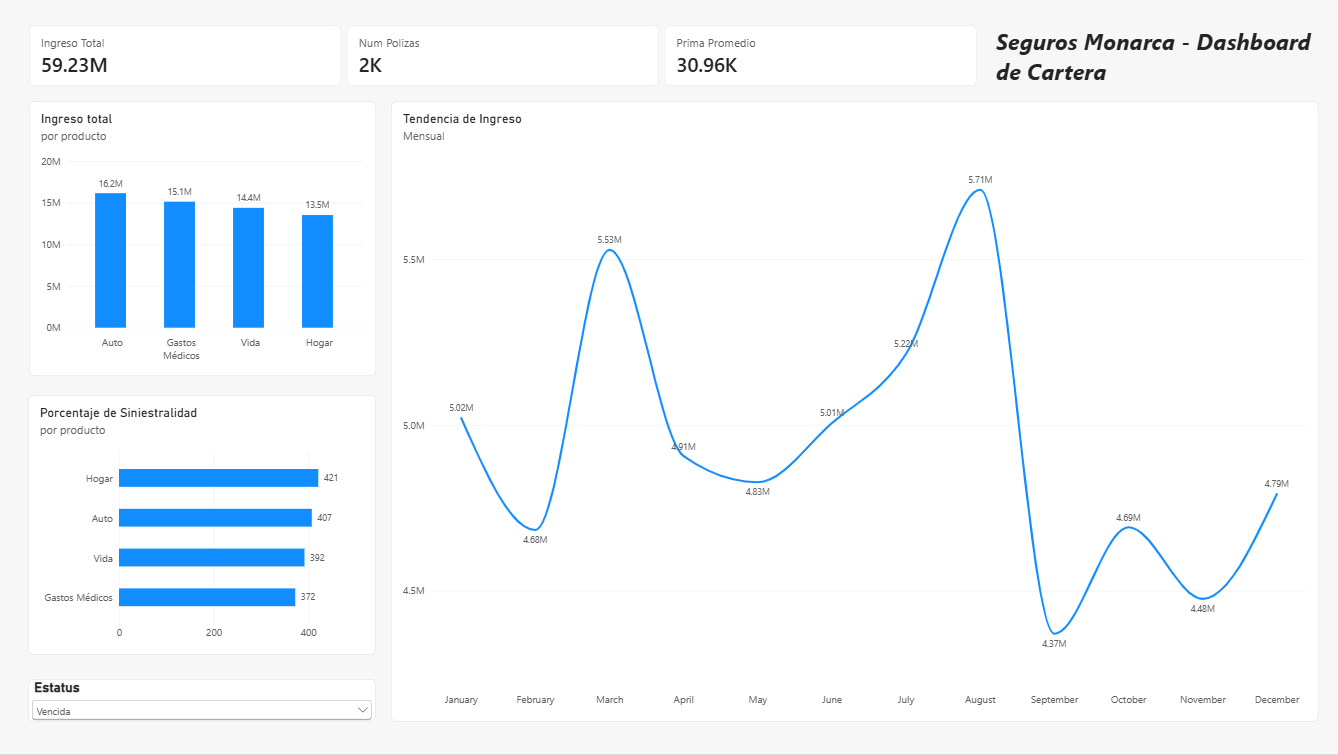

The dashboard page shown, as its layout file describes it:
{"tool":"powerbi","page":{"name":"Page 1","canvas":[1920,1080],"ordinal":0},"visuals":[{"type":"columnChart","title":"Ingreso total","fields":{"Category":["polizas.producto"],"Y":["polizas.Ingreso Total"]},"box":[47.1,147.1,495.7,392.9],"z":0},{"type":"cardVisual","fields":{"Data":["polizas.Ingreso Total","polizas.Num Polizas","polizas.Prima Promedio"]},"box":[46.9,38.7,1356.5,87.9],"z":1000},{"type":"slicer","title":"Estatus de Polizas","fields":{"Values":["polizas.estatus"]},"box":[45.7,972.9,497.1,61.4],"z":2000},{"type":"barChart","title":"Porcentaje de Siniestralidad","fields":{"Category":["polizas.producto"],"Y":["polizas.Siniestralidad %"]},"box":[45.7,567.1,497.1,371.4],"z":3000},{"type":"lineChart","title":"Tendencia de Ingreso","fields":{"Category":["polizas.fecha_inicio.Variation.Date Hierarchy.Year","polizas.fecha_inicio.Variation.Date Hierarchy.Quarter","polizas.fecha_inicio.Variation.Date Hierarchy.Month","polizas.fecha_inicio.Variation.Date Hierarchy.Day"],"Y":["polizas.Ingreso Total"]},"box":[564.6,147.6,1324.9,886.8],"z":4000},{"type":"textbox","box":[100,100,300,300],"z":4003},{"type":"textbox","box":[100,100,300,300],"z":4004},{"type":"textbox","box":[1428.6,38.6,461.4,88.6],"z":4005}]}

Visuals, with their boxes in screenshot pixels (x1, y1, x2, y2), scaled from the page's 1920x1080 canvas onto the 1338x755 screenshot:
"Ingreso total" columnChart: crop(33, 103, 378, 378)
cardVisual - polizas.Ingreso Total x polizas.Num Polizas: crop(33, 27, 978, 89)
"Estatus de Polizas" slicer: crop(32, 680, 378, 723)
"Porcentaje de Siniestralidad" barChart: crop(32, 396, 378, 656)
"Tendencia de Ingreso" lineChart: crop(393, 103, 1317, 723)
textbox: crop(70, 70, 279, 280)
textbox: crop(70, 70, 279, 280)
textbox: crop(996, 27, 1317, 89)
